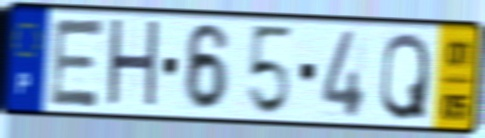4: (319, 27, 368, 122)
5: (243, 24, 297, 118)
6: (179, 21, 235, 115)
E: (46, 16, 109, 111)
H: (103, 15, 163, 115)
Q: (377, 29, 433, 124)
